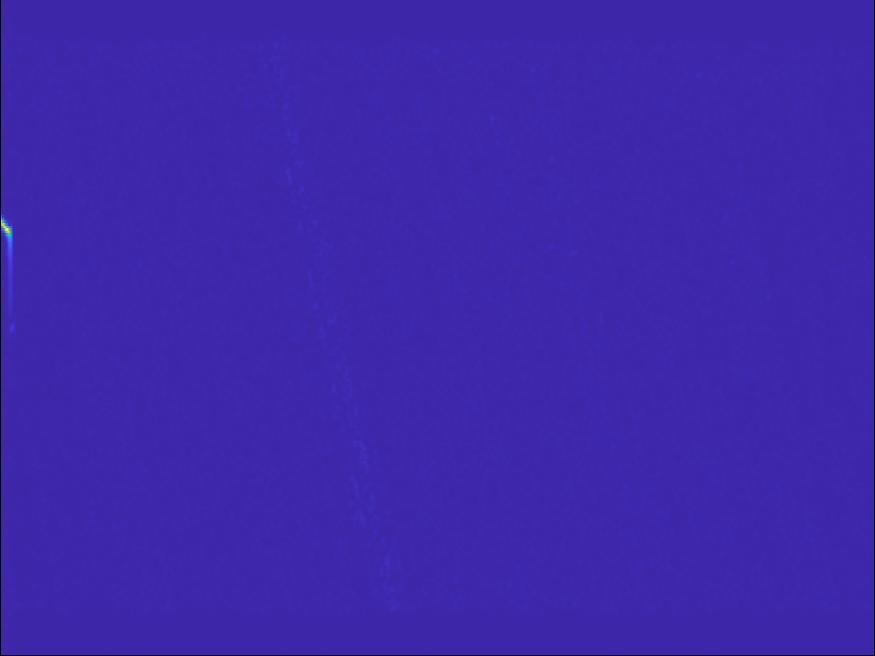Interference: (49, 244, 289, 438), (80, 455, 257, 576), (724, 310, 875, 361), (730, 49, 848, 91)
